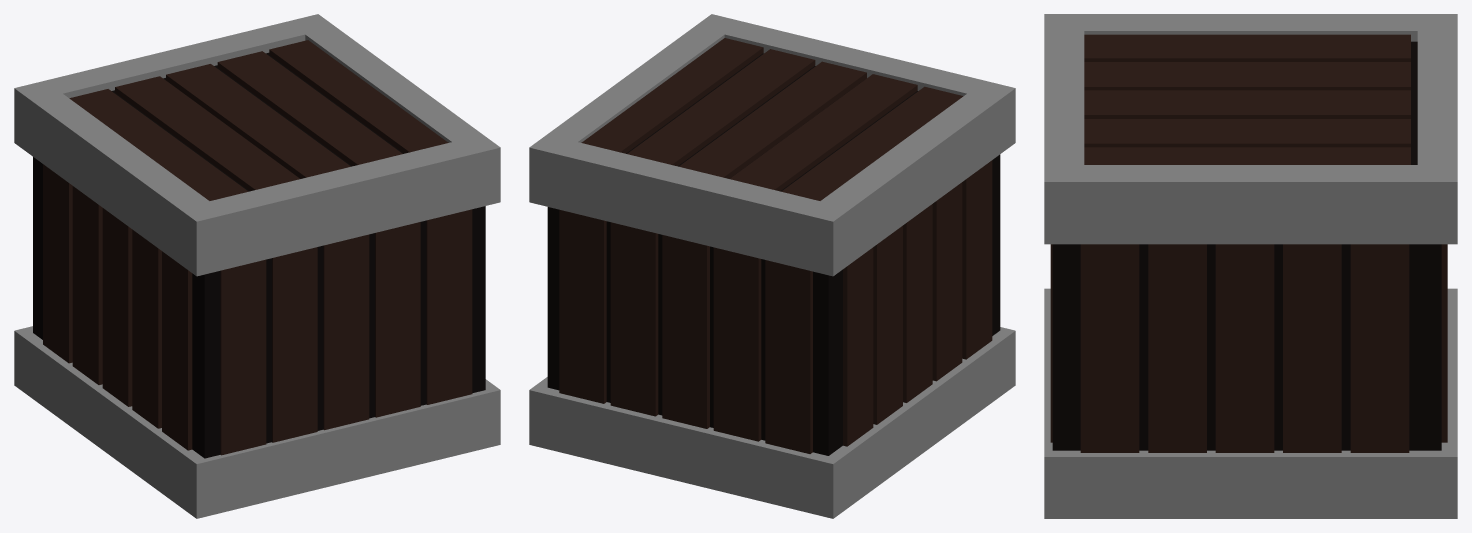
File: WoodenBox.FBX
3 views of the same model, side by side, from view 1: azimuth 30°, elevation 25°; view 2: azimuth 150°, elevation 25°; view 3: azimuth 270°, elevation 25° (orthographic). The views are drawn at different scales.
Parts seen in each view (by area): view 1: woodenbox005; view 2: woodenbox005; view 3: woodenbox005.
Part boxes in pixels (bbox=[...]): woodenbox005: bbox=[14, 14, 500, 518]; woodenbox005: bbox=[529, 14, 1015, 518]; woodenbox005: bbox=[1044, 14, 1457, 518].
Size of the model in its own units: 7.07 by 6.6 by 7.35.
